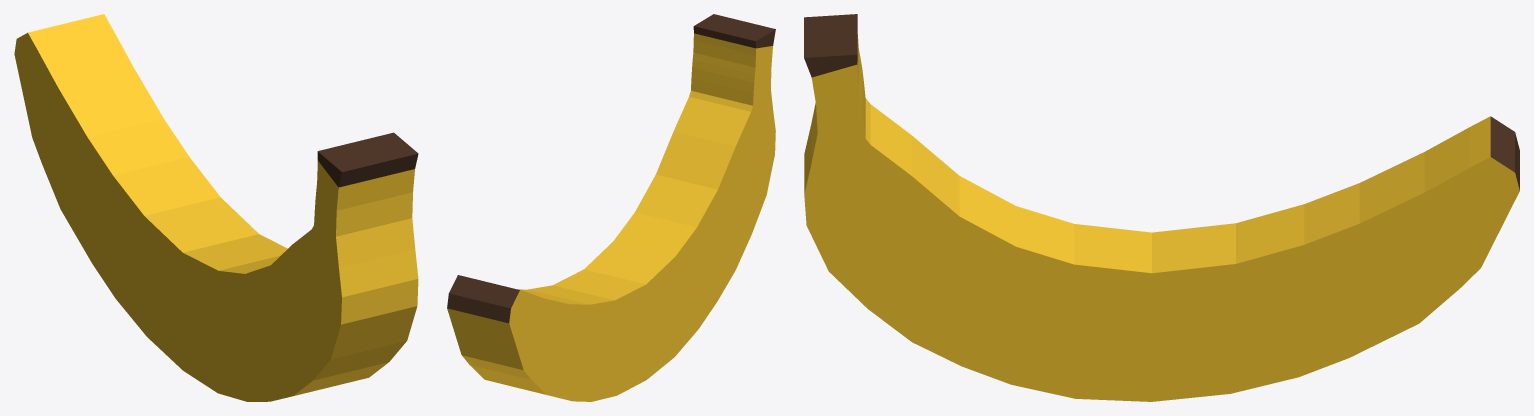
Rendered from banana.fbx.
The picture shows the model from 3 angles, left to right: view 1: azimuth 30°, elevation 25°; view 2: azimuth 150°, elevation 25°; view 3: azimuth 270°, elevation 25°; orthographic projection. The views are drawn at different scales.
Parts seen in each view (by area): view 1: Banana; view 2: Banana; view 3: Banana.
Boxes of the visible parts, x1,y1,x2,y2 form: Banana: (14,14,418,401); Banana: (447,14,775,401); Banana: (804,14,1519,401).
Bounding box in the file's own units: 2.46 × 9.78 × 18.26.
